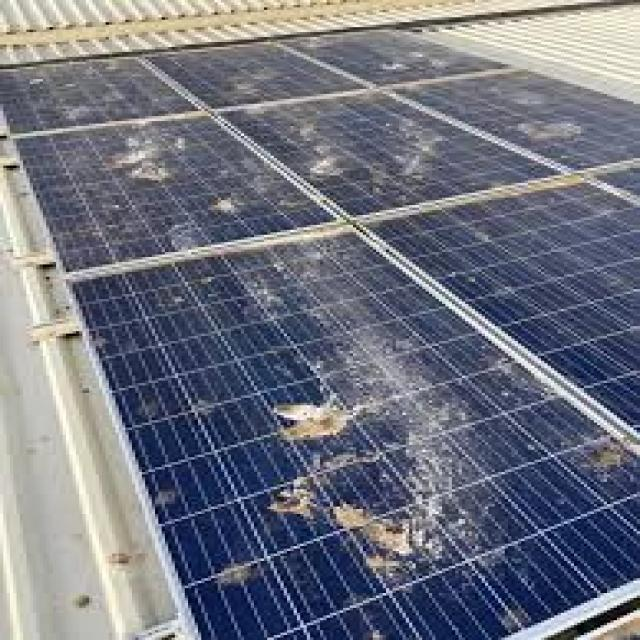dust-solar-panel: (0, 24, 640, 640)
